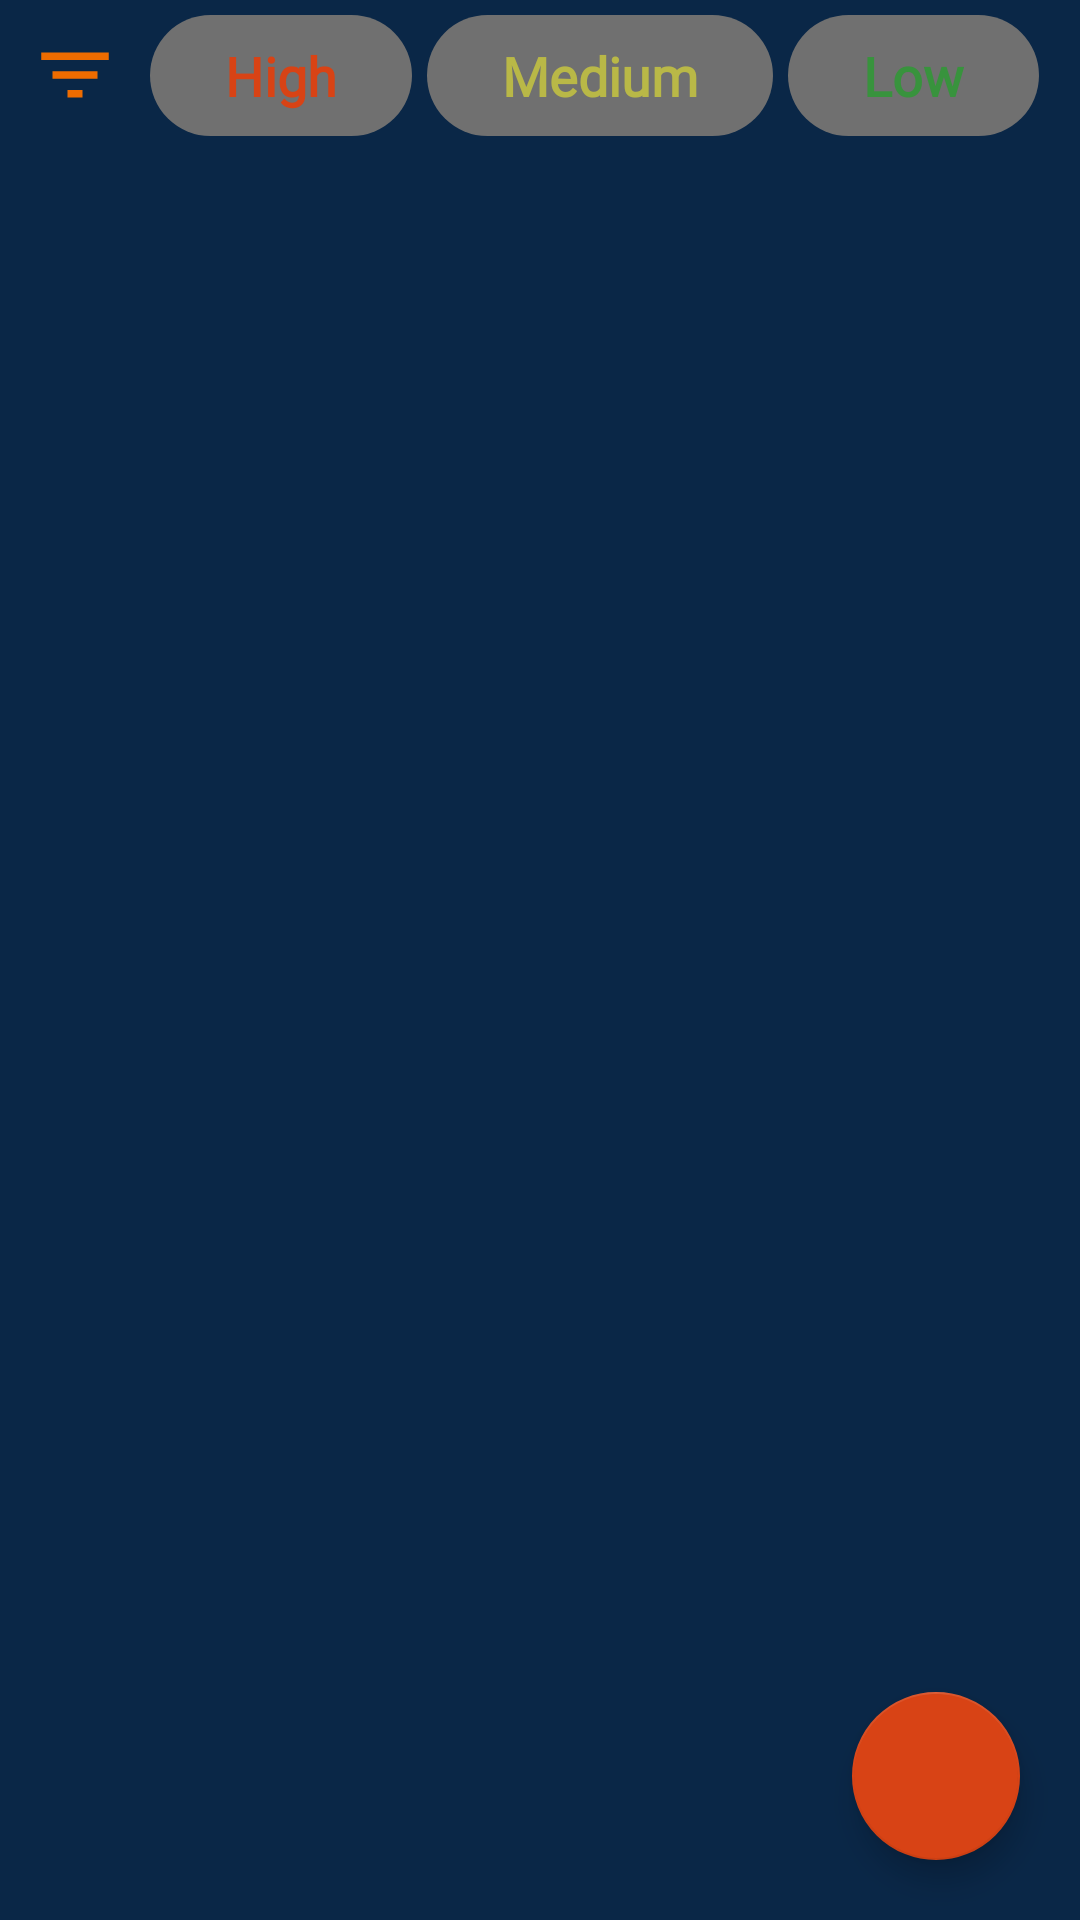

Locate icon controls on the screen. Image size 1080w x 1920h, boxes as (x1, y1, x2, y2).
filter: (41, 52, 109, 98)
